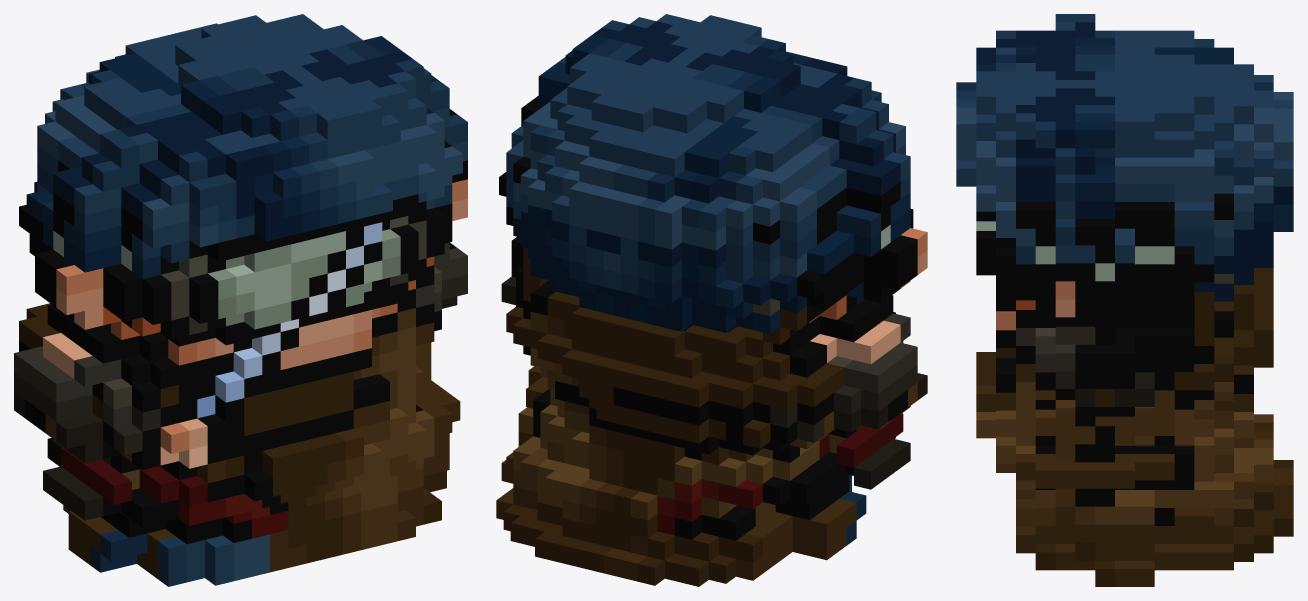
The model's file is Icon_713_03.obj.
3 views of the same model, side by side, from view 1: azimuth 30°, elevation 25°; view 2: azimuth 150°, elevation 25°; view 3: azimuth 270°, elevation 25° (orthographic). The views are drawn at different scales.
Bounding box in the file's own units: 2.2 × 2.4 × 1.7.
Materials: 1 (1 with a texture image).
